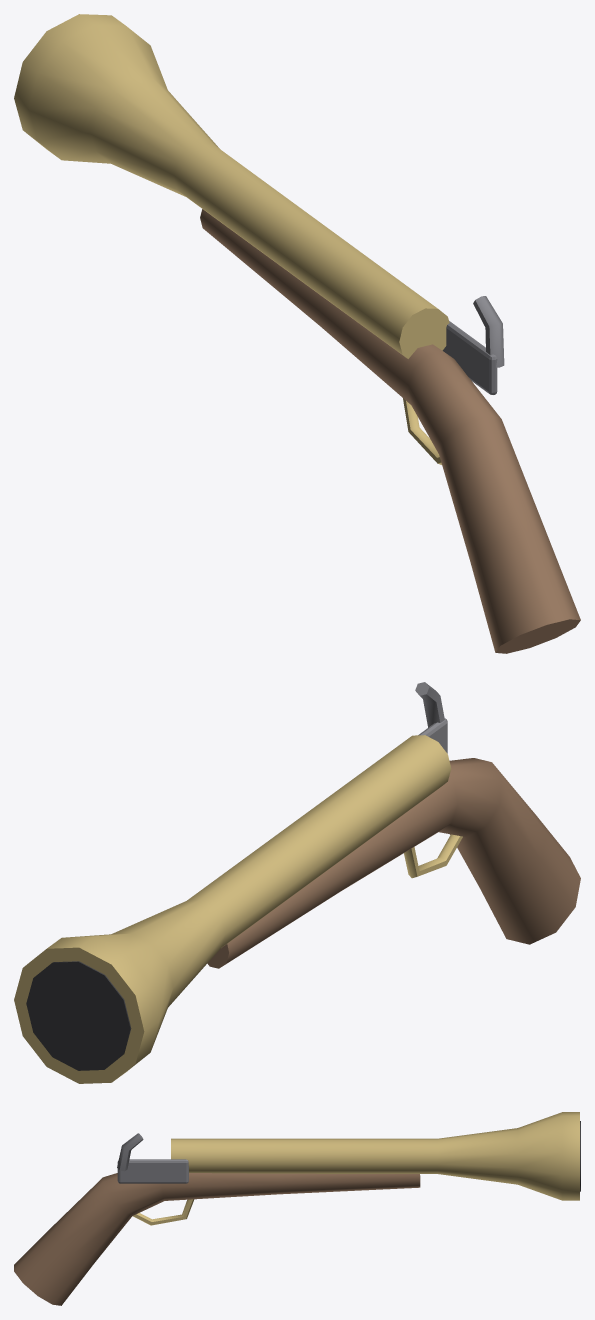
File: blunderbuss.glb
3 renders of one model, top to bottom at view 1: azimuth 30°, elevation 25°; view 2: azimuth 150°, elevation 25°; view 3: azimuth 270°, elevation 25°, orthographic. The views are drawn at different scales.
Parts seen in each view (by area): view 1: blunderbuss; view 2: blunderbuss; view 3: blunderbuss.
Boxes of the visible parts, bbox=[...] form: blunderbuss: bbox=[14, 14, 580, 653]; blunderbuss: bbox=[14, 682, 580, 1083]; blunderbuss: bbox=[14, 1112, 580, 1305].
Bounding box in the file's own units: 0.1 × 0.2314 × 0.6377.
